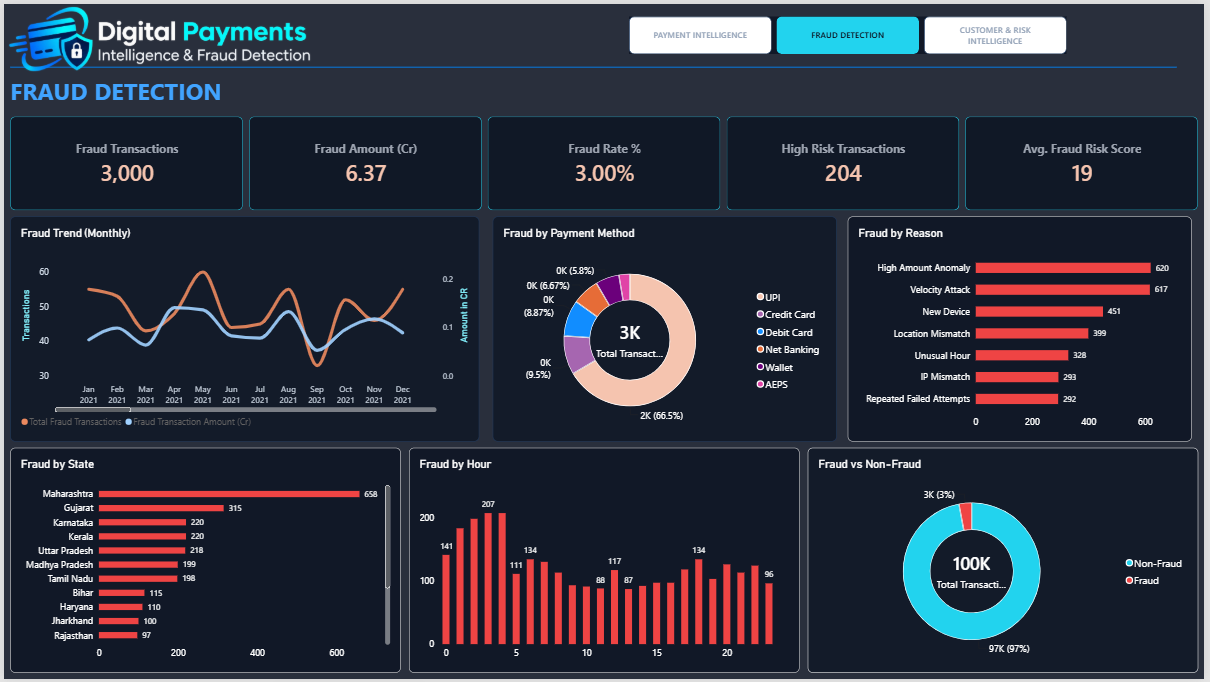

The dashboard page shown, as its layout file describes it:
{"tool":"powerbi","page":{"name":"FRAUD DETECTION","canvas":[1920,1080],"ordinal":1},"visuals":[{"type":"barChart","title":"Fraud by Reason","fields":{"Category":["transactions_100k.Fraud_Reason"],"Y":["transactions_100k.Total Fraud Transactions"]},"box":[1350,340.1,550,360],"z":0},{"type":"barChart","title":"Fraud by State","fields":{"Category":["transactions_100k.State"],"Y":["transactions_100k.Total Fraud Transactions"]},"box":[10,710,625,360],"z":1000},{"type":"columnChart","title":"Fraud by Hour","fields":{"Category":["transactions_100k.Transaction Hour"],"Y":["transactions_100k.Total Fraud Transactions"]},"box":[648,710,625,360],"z":2000},{"type":"cardVisual","fields":{"Data":["transactions_100k.Fraud Transactions","transactions_100k.Fraud Transaction Amount","transactions_100k.Fraud Rate %","transactions_100k.High Risk Transactions","transactions_100k.Average Fraud Risk Score"]},"box":[10,180,1900,150],"z":3000},{"type":"lineChart","title":"Fraud Trend (Monthly)","fields":{"Y":["transactions_100k.Total Fraud Transactions"],"Category":["transactions_100k.Month Year"],"Y2":["transactions_100k.Fraud Transaction Amount (Cr)"]},"box":[10,340,750,360],"z":4000},{"type":"donutChart","title":"Fraud by Payment Method","fields":{"Category":["transactions_100k.Payment_Method"],"Y":["transactions_100k.Total Fraud Transactions"]},"box":[781.4,340,550,360],"z":5000},{"type":"donutChart","title":"Fraud vs Non-Fraud","fields":{"Category":["transactions_100k.Fraud Status"],"Y":["CountNonNull(transactions_100k.Transaction_ID)"]},"box":[1285,710,625,360],"z":6000},{"type":"shape","box":[10.5,78.5,1866.3,46.4],"z":8000},{"type":"textbox","box":[9.5,114.4,682.7,57.2],"z":9000},{"type":"pageNavigator","box":[1000,20,700,60],"z":10000},{"type":"image","box":[0,0,503.5,110.6],"z":10001}]}

Visuals, with their boxes in screenshot pixels (x1, y1, x2, y2), scaled from the page's 1920x1080 canvas onto the 1210x682 screenshot:
"Fraud by Reason" barChart: pyautogui.locateOnScreen(851, 215, 1197, 442)
"Fraud by State" barChart: pyautogui.locateOnScreen(6, 448, 400, 676)
"Fraud by Hour" columnChart: pyautogui.locateOnScreen(408, 448, 802, 676)
cardVisual - transactions_100k.Fraud Transactions x transactions_100k.Fraud Transaction Amount: pyautogui.locateOnScreen(6, 114, 1204, 208)
"Fraud Trend (Monthly)" lineChart: pyautogui.locateOnScreen(6, 215, 479, 442)
"Fraud by Payment Method" donutChart: pyautogui.locateOnScreen(492, 215, 839, 442)
"Fraud vs Non-Fraud" donutChart: pyautogui.locateOnScreen(810, 448, 1204, 676)
shape: pyautogui.locateOnScreen(7, 50, 1183, 79)
textbox: pyautogui.locateOnScreen(6, 72, 436, 108)
pageNavigator: pyautogui.locateOnScreen(630, 13, 1071, 51)
image: pyautogui.locateOnScreen(0, 0, 317, 70)
